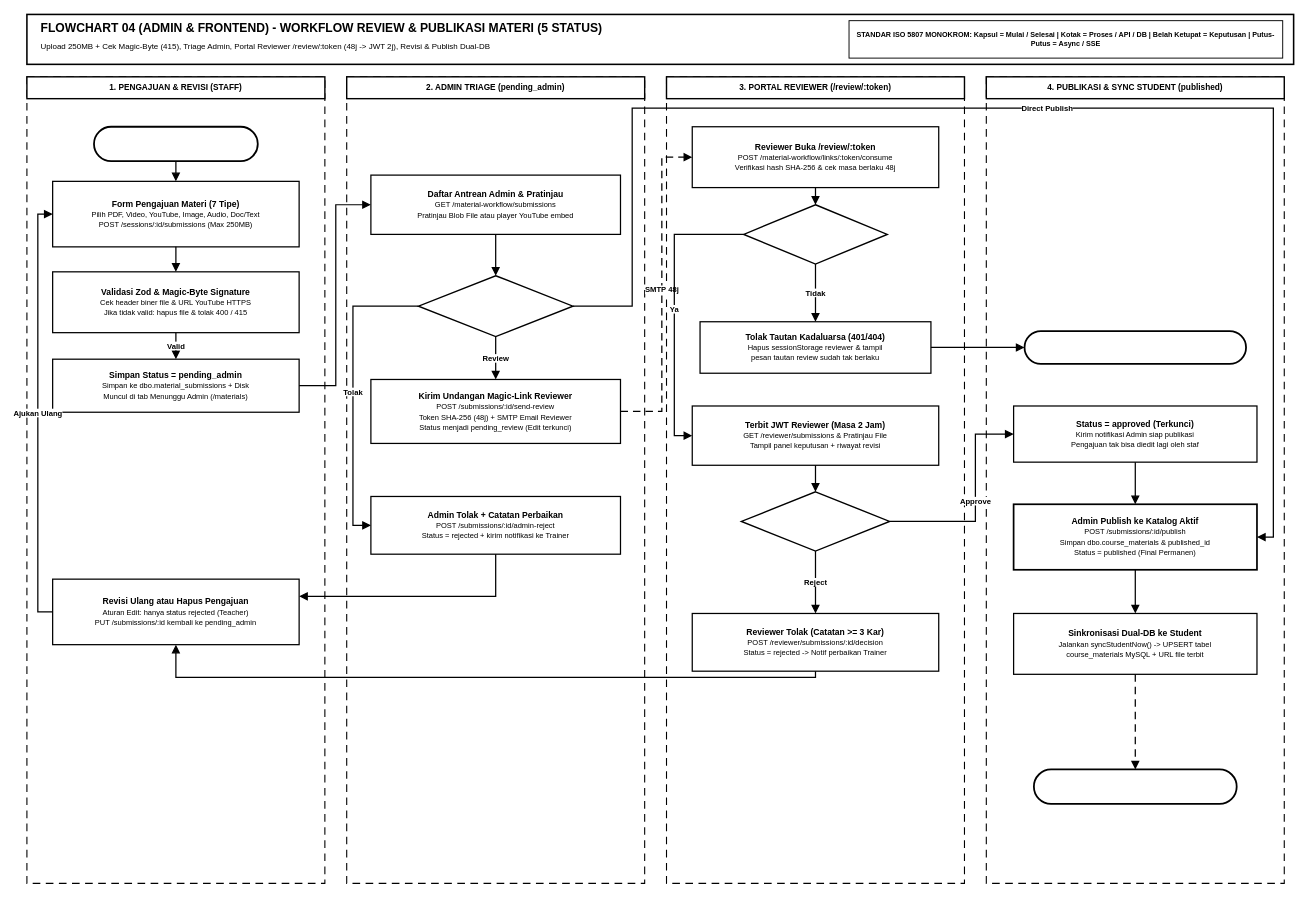
This 1308x897 diagram has some shape labels left out. Each missing label, with the centre of its shape:
AKSES REVIEWER DITOLAK: the point at 1135,347
Keputusan Admin (pending_admin)?: the point at 495,306
Keputusan Akhir Reviewer?: the point at 815,521
MATERI TERBIT DI STUDENT: the point at 1135,786
MULAI AJUKAN MATERI: the point at 175,144
Token Valid & Belum Expired?: the point at 815,234
